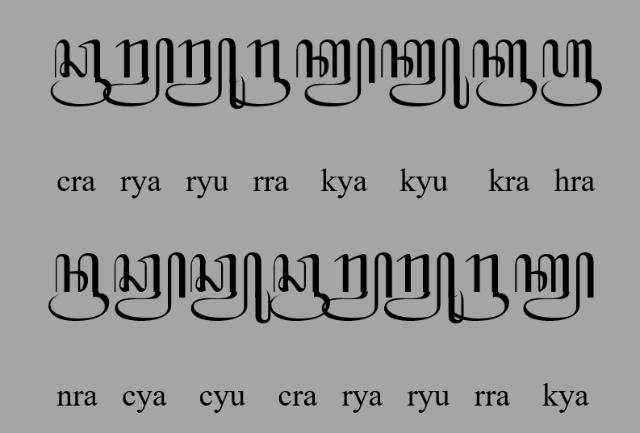cr: (50, 39, 112, 107), (268, 254, 329, 322)
cy: (114, 252, 186, 322)
cyu: (190, 252, 272, 324)
hr: (542, 39, 602, 108)
kr: (472, 39, 538, 107)
ky: (294, 36, 376, 110), (515, 252, 595, 322)
kyu: (380, 36, 470, 110)
nr: (49, 252, 110, 322)
rr: (448, 253, 510, 321), (230, 37, 290, 106)
ry: (102, 36, 174, 108), (321, 252, 393, 322)
ryu: (165, 36, 247, 110), (384, 252, 464, 324)
